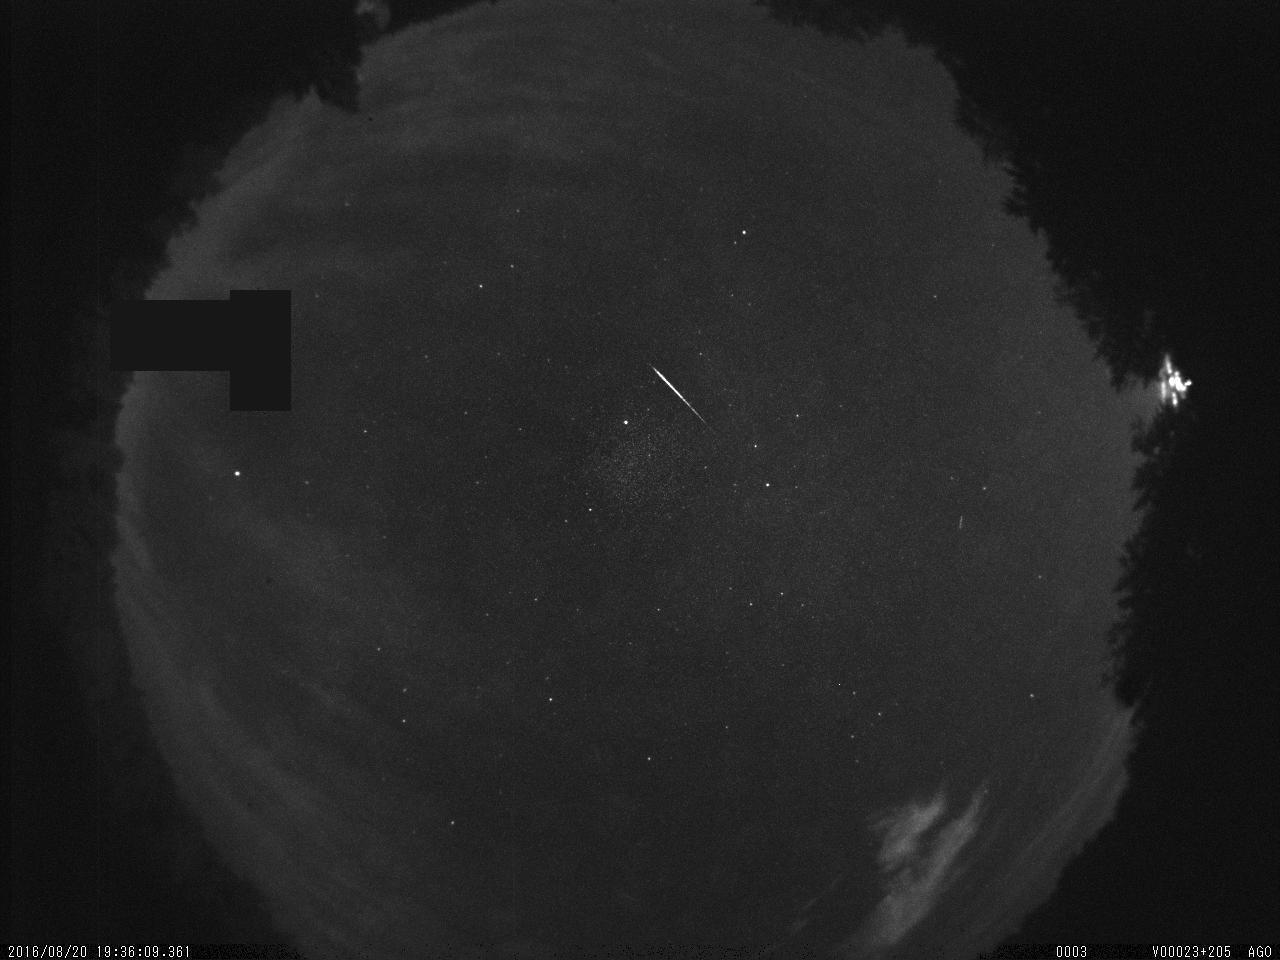Meteor: (644, 358, 718, 435)
